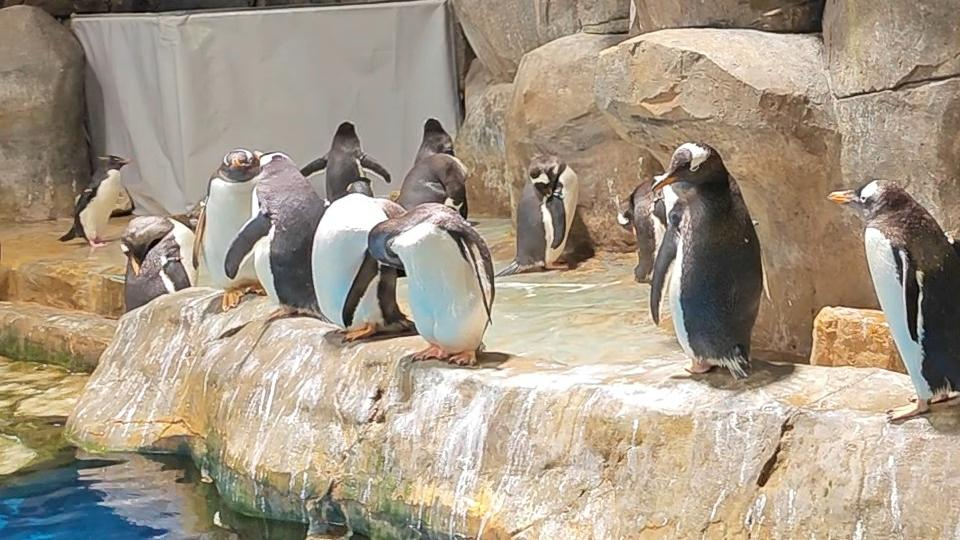Southern Rockhopper Penguin: (57, 150, 141, 250)
